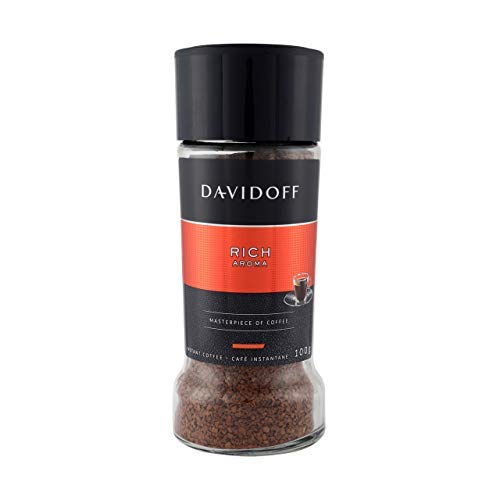DAVIDOFF: (202, 185, 299, 199)
